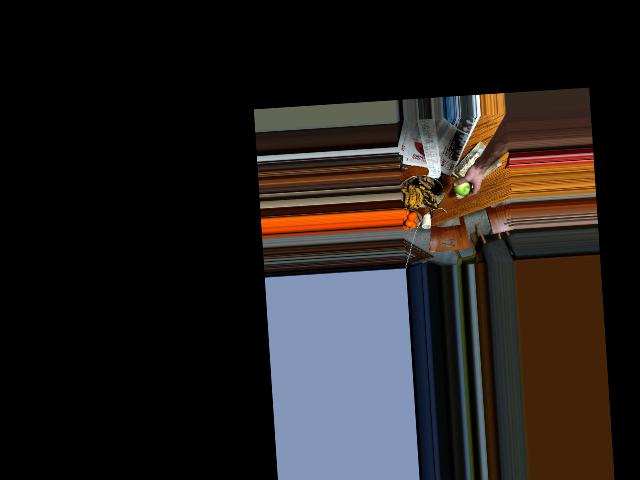apple: (452, 174, 473, 197)
